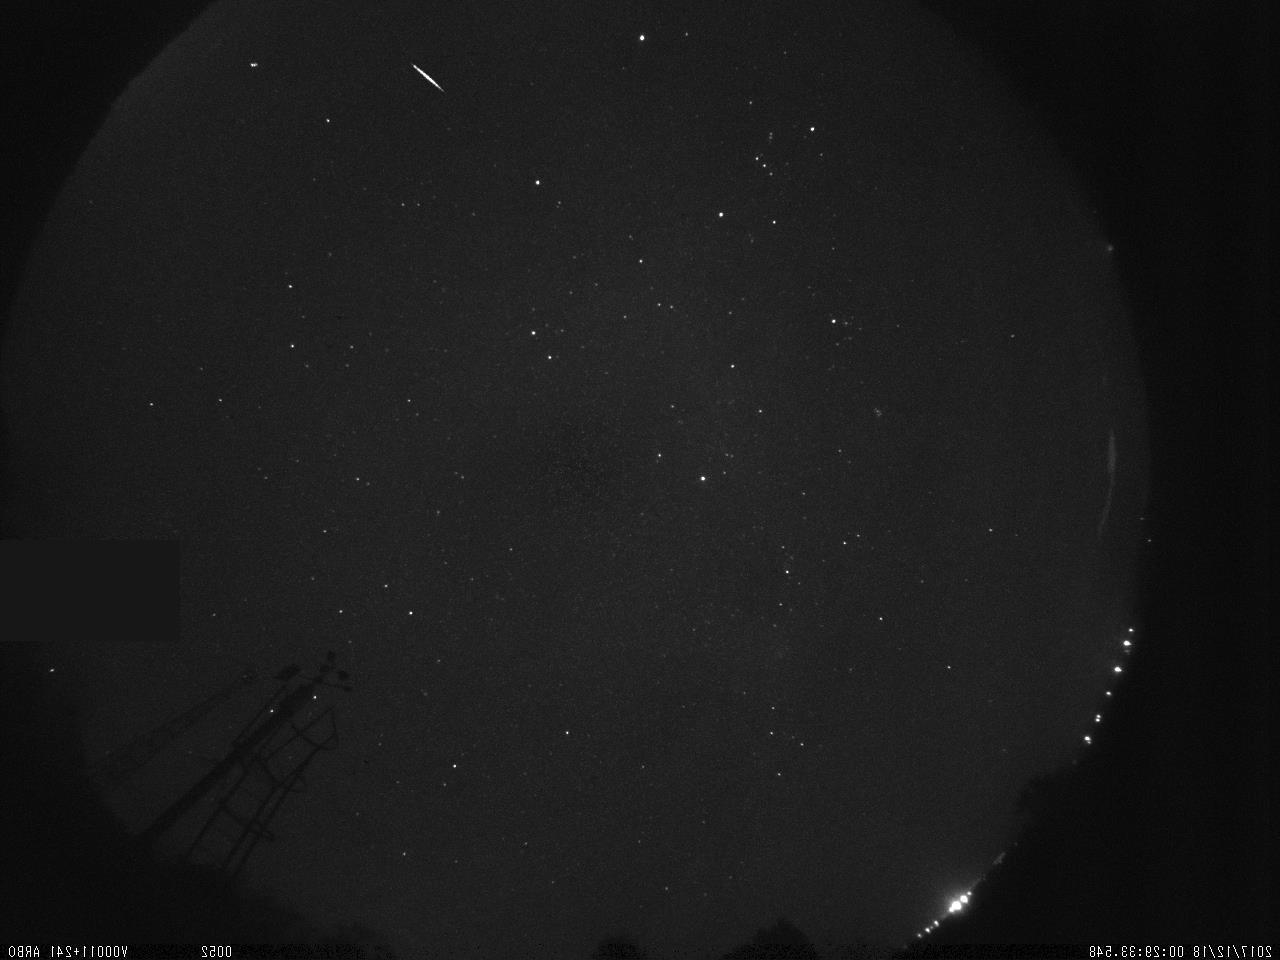meteor: (402, 47, 470, 114)
